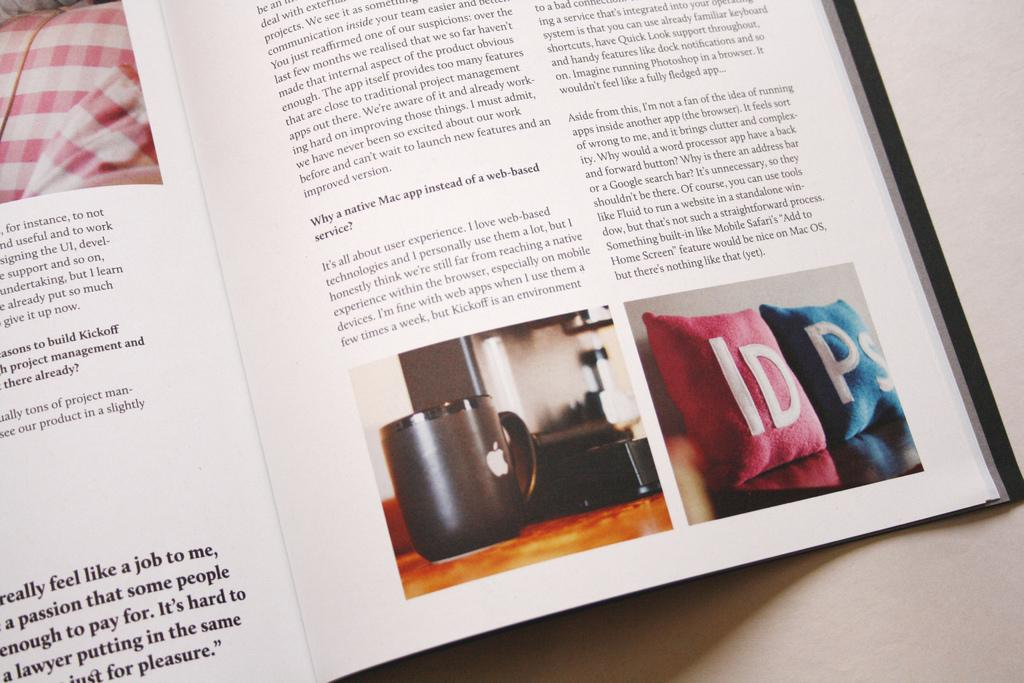Book: (2, 0, 1020, 681)
